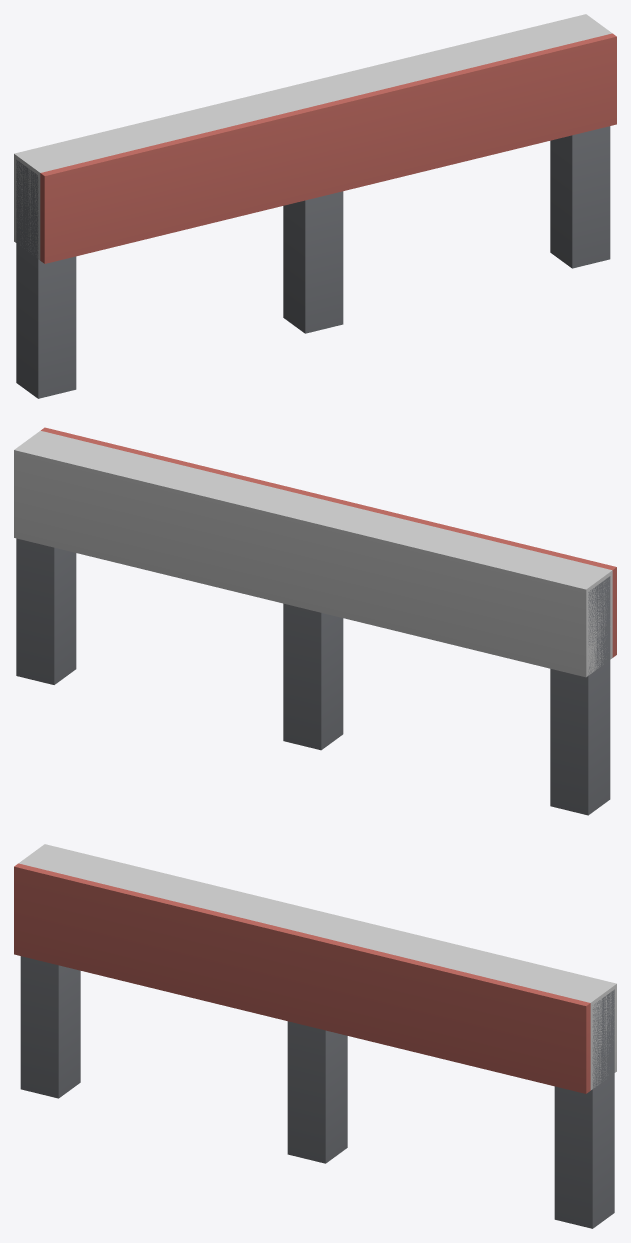
Rendered from barrier.glb.
3 views of the same model, one above another, from view 1: azimuth 30°, elevation 25°; view 2: azimuth 150°, elevation 25°; view 3: azimuth 330°, elevation 25° (orthographic).
Parts seen in each view (by area): view 1: root; view 2: root; view 3: root.
Part boxes in pixels (<box>): root: <box>14,14,616,398</box>; root: <box>14,427,616,815</box>; root: <box>14,844,616,1228</box>.
Bounding box in the file's own units: 1.5 × 0.57 × 0.14.
